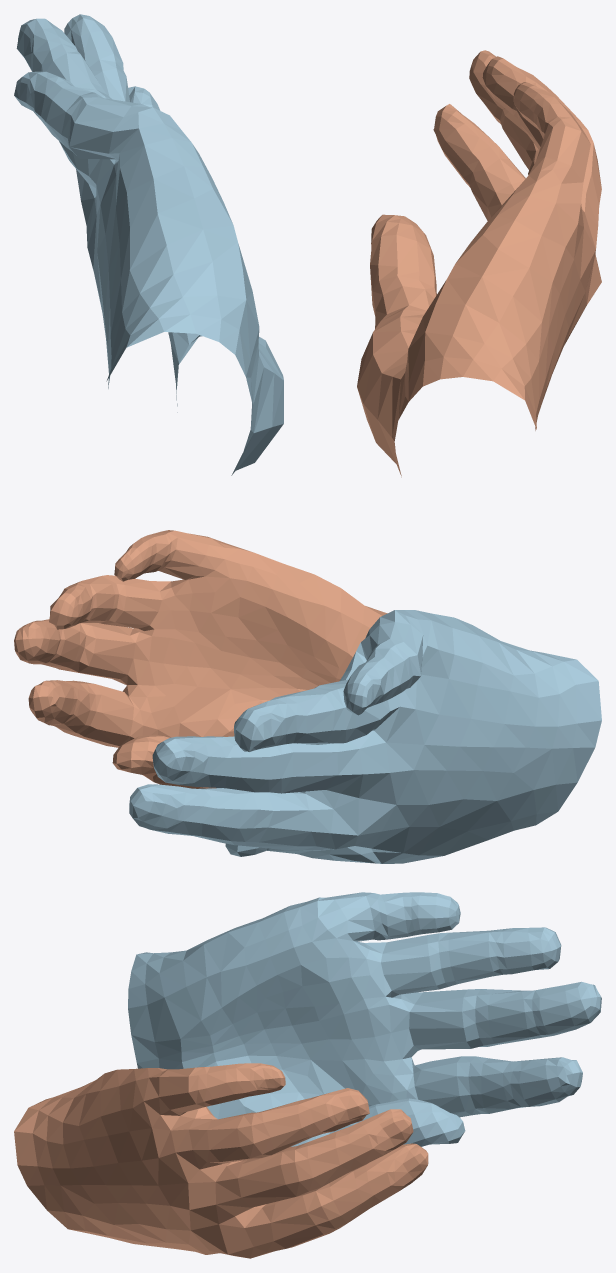
The model's file is frame_060.glb.
The picture shows the model from 3 angles, top to bottom: view 1: azimuth 30°, elevation 25°; view 2: azimuth 150°, elevation 25°; view 3: azimuth 270°, elevation 25°; orthographic projection. The views are drawn at different scales.
Visible parts, largest first — view 1: world; view 2: world; view 3: world.
Part boxes in pixels (x1,y1,x2,y2): world: [14, 14, 601, 477]; world: [14, 530, 601, 863]; world: [14, 892, 601, 1258].
Size of the model in its own units: 0.1838 by 0.1044 by 0.2069.
